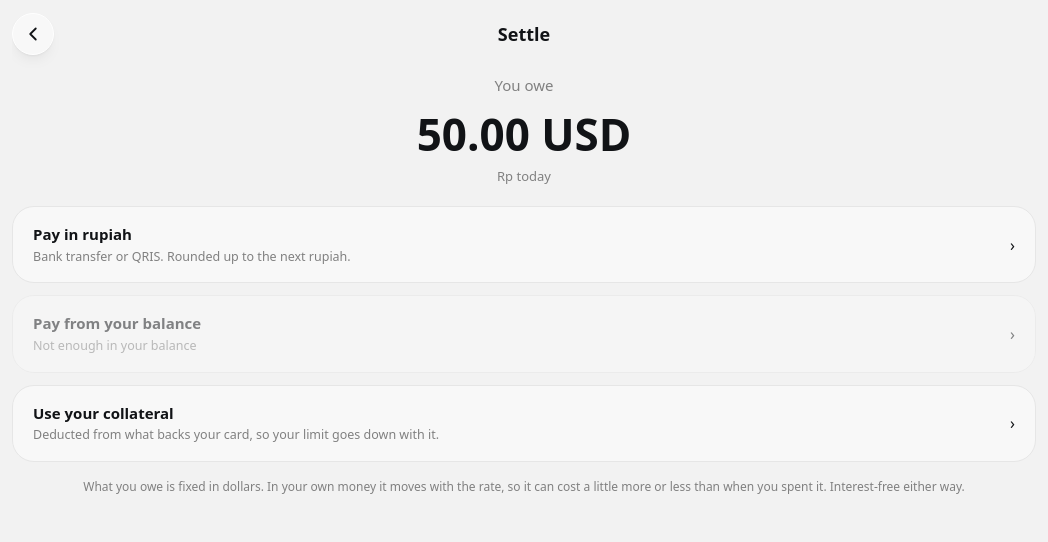
collateral can settle it, and a refusal from the wallet is shown
What coordinates should you click on to do the following:
click the button "Use your collateral"
I would click on:
 (103, 412)
Its box is x1=12 y1=384 x2=1036 y2=462.
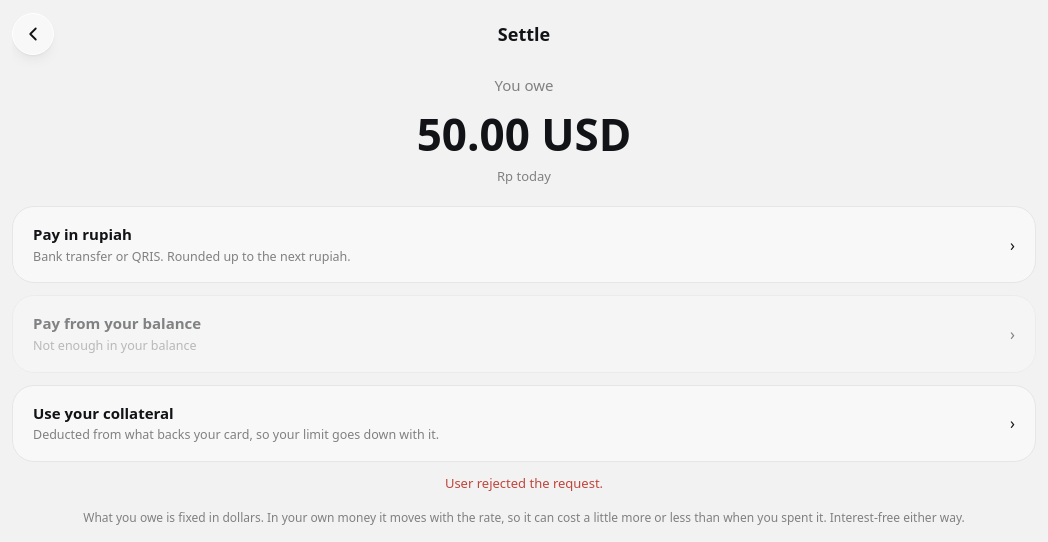
Now the text "User rejected the request." is shown, box x1=445 y1=474 x2=603 y2=492
